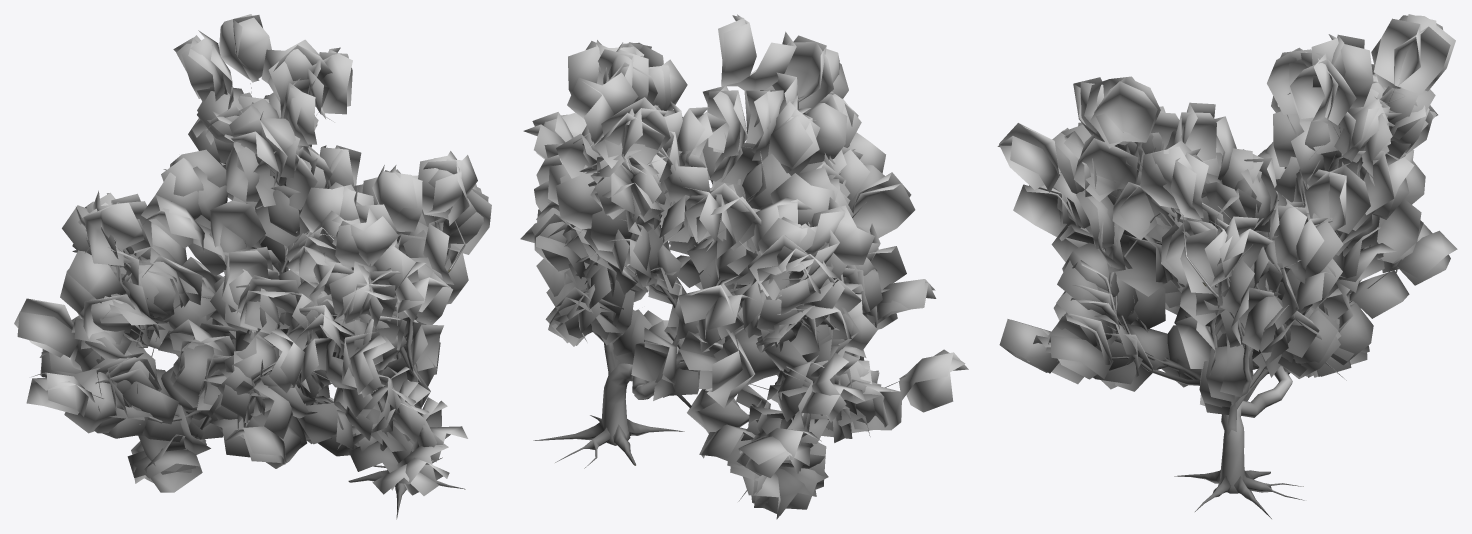
The model's file is SycamoreMiddleEastern_A.fbx.
3 renders of one model, left to right at view 1: azimuth 30°, elevation 25°; view 2: azimuth 150°, elevation 25°; view 3: azimuth 270°, elevation 25°, orthographic. The views are drawn at different scales.
Parts seen in each view (by area): view 1: SycamoreMiddleEastern_A_LOD0; view 2: SycamoreMiddleEastern_A_LOD0; view 3: SycamoreMiddleEastern_A_LOD0.
Part boxes in pixels (x1=…): SycamoreMiddleEastern_A_LOD0: x1=14, y1=14, x2=491, y2=519; SycamoreMiddleEastern_A_LOD0: x1=520, y1=14, x2=968, y2=519; SycamoreMiddleEastern_A_LOD0: x1=997, y1=14, x2=1457, y2=518.
Size of the model in its own units: 1229 by 1168 by 1123.
